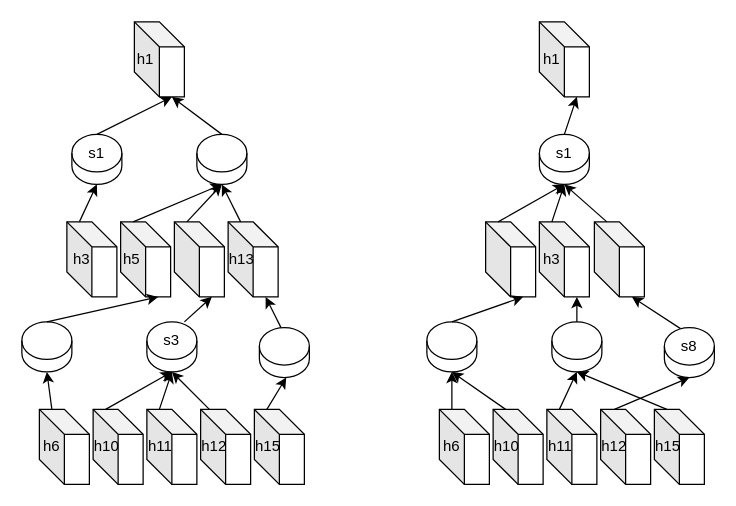
This 736x506 diagram has some shape labels left out. The shapes that lost their labels are listed below. From the top down, each one's box as (x1, y1, x2, y2) in pixels, then its label:
(196, 133, 247, 184): s5
(173, 221, 224, 297): h9
(484, 221, 536, 297): h2
(593, 221, 644, 297): h4
(21, 321, 72, 372): s2
(258, 326, 309, 378): s4
(426, 321, 477, 372): s6
(551, 321, 602, 372): s7
